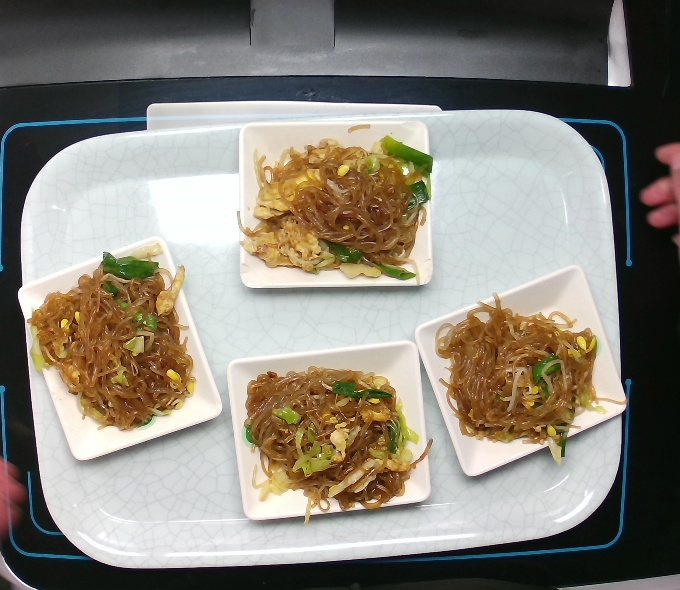wcq-FenSiChaoDan: (235, 119, 434, 296), (17, 246, 207, 427), (426, 291, 613, 470), (233, 361, 432, 509)
